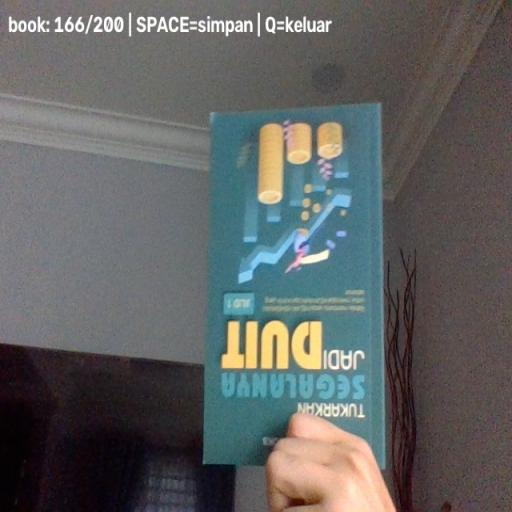Book: (202, 102, 386, 468)
